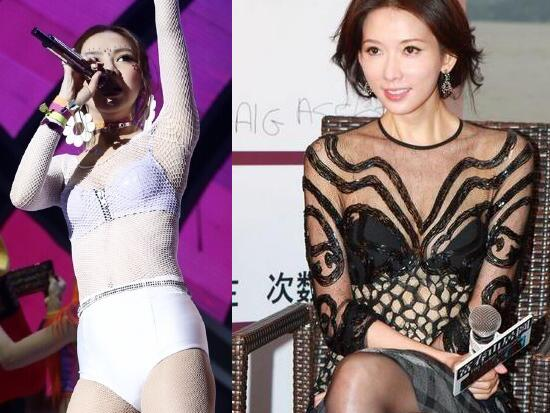face: (359, 24, 440, 115), (75, 31, 140, 111)
